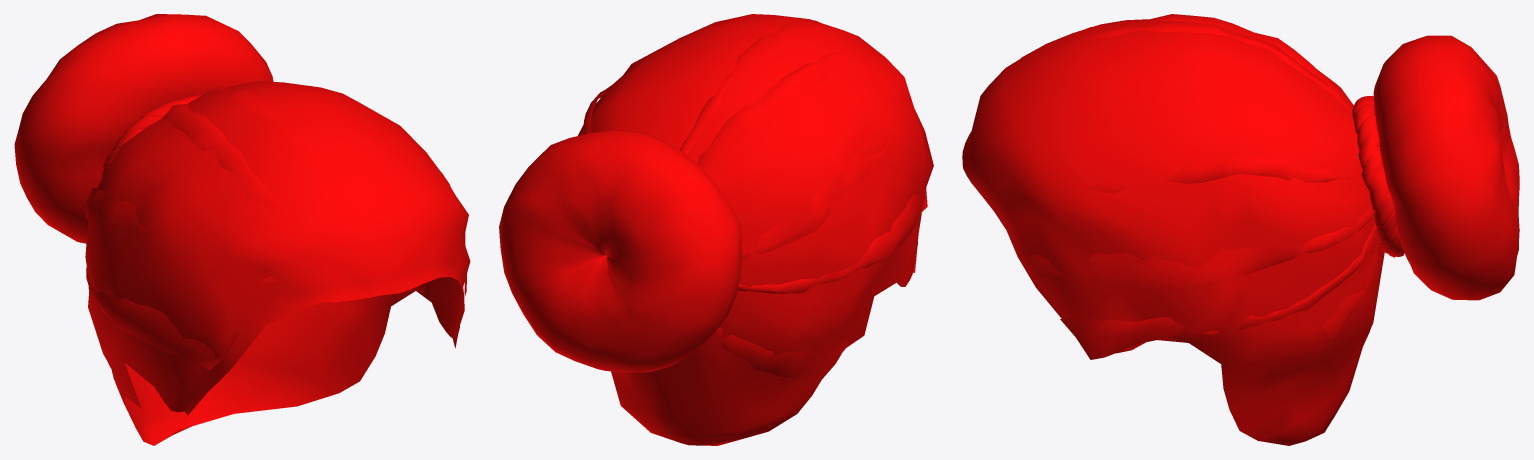
The model's file is rehmanpolanski_hair_bun_brown_M.glb.
3 views of the same model, side by side, from view 1: azimuth 30°, elevation 25°; view 2: azimuth 150°, elevation 25°; view 3: azimuth 270°, elevation 25° (orthographic). The views are drawn at different scales.
Size of the model in its own units: 0.1779 by 0.2033 by 0.265.
Materials: 1 (1 with a texture image).
